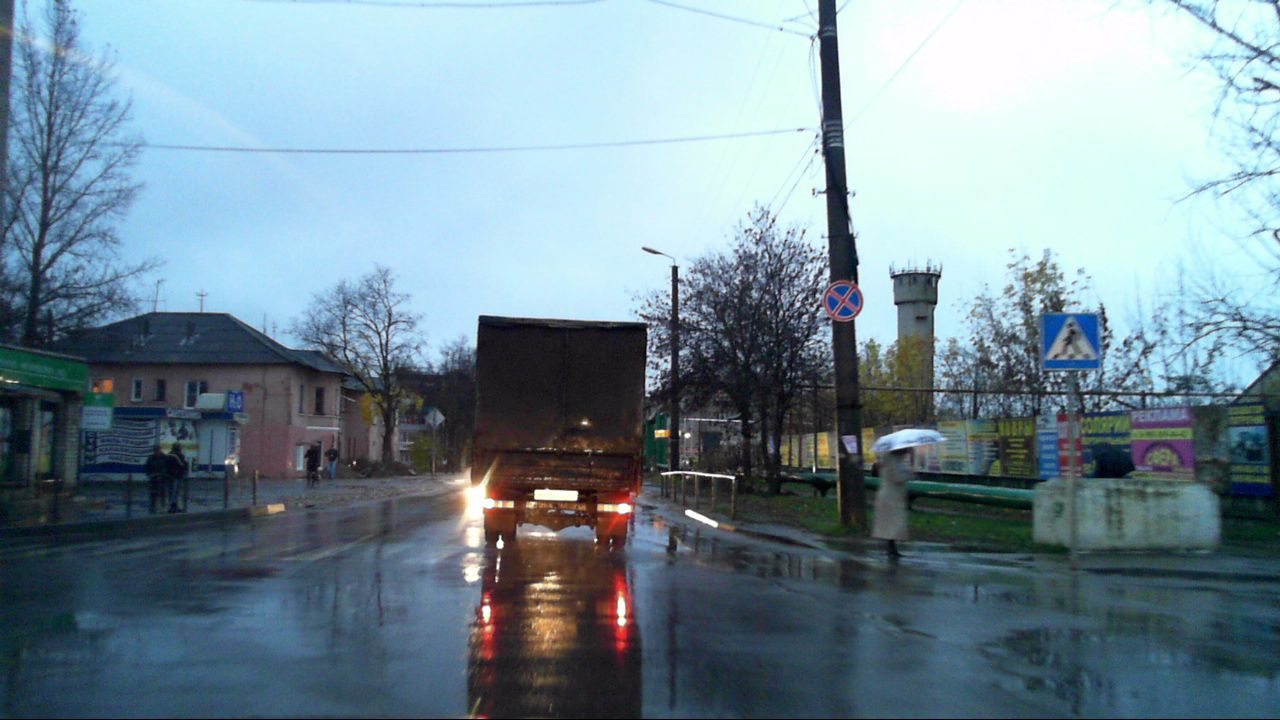No Parking: (822, 280, 864, 322)
